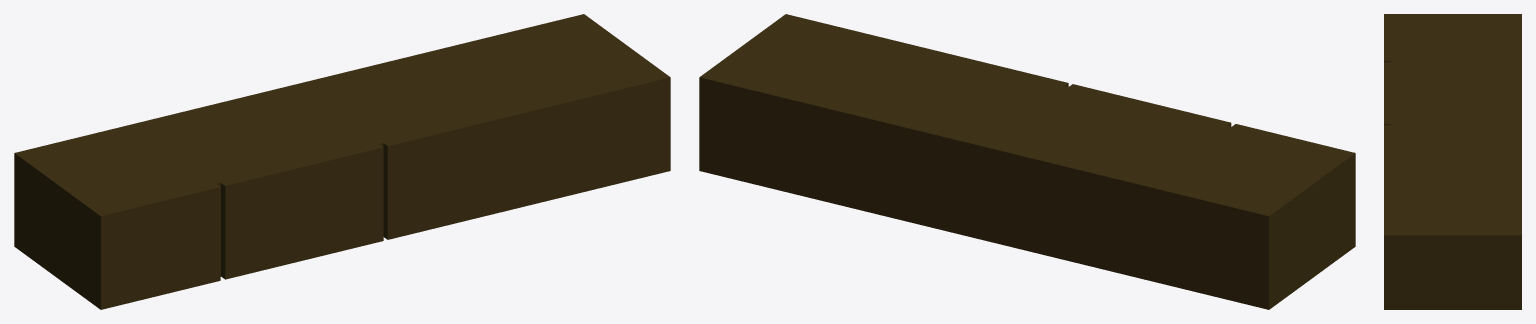
The model's file is PM2_Office_Kitchen_Cabinet.fbx.
The picture shows the model from 3 angles, left to right: view 1: azimuth 30°, elevation 25°; view 2: azimuth 150°, elevation 25°; view 3: azimuth 270°, elevation 25°; orthographic projection. The views are drawn at different scales.
Visible parts, largest first — view 1: Cabinet; view 2: Cabinet; view 3: Cabinet.
Part boxes in pixels (x1=…): Cabinet: x1=14, y1=14, x2=670, y2=309; Cabinet: x1=699, y1=14, x2=1355, y2=309; Cabinet: x1=1384, y1=14, x2=1521, y2=309.
Bounding box in the file's own units: 801 × 126 × 211.
